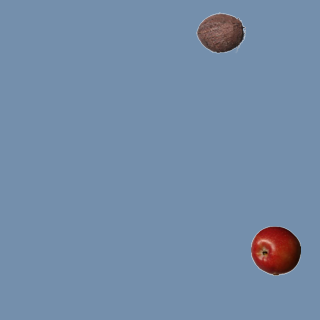Apple Braeburn: (250, 225, 300, 275)
Cocos: (195, 7, 245, 57)
